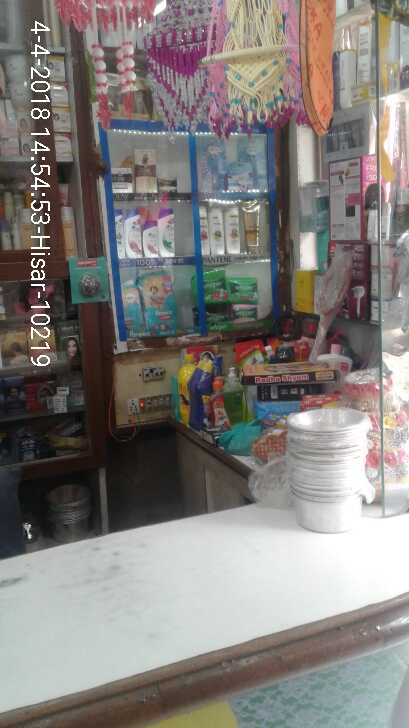venus: (201, 138, 225, 192), (227, 161, 252, 190), (239, 138, 263, 159)
